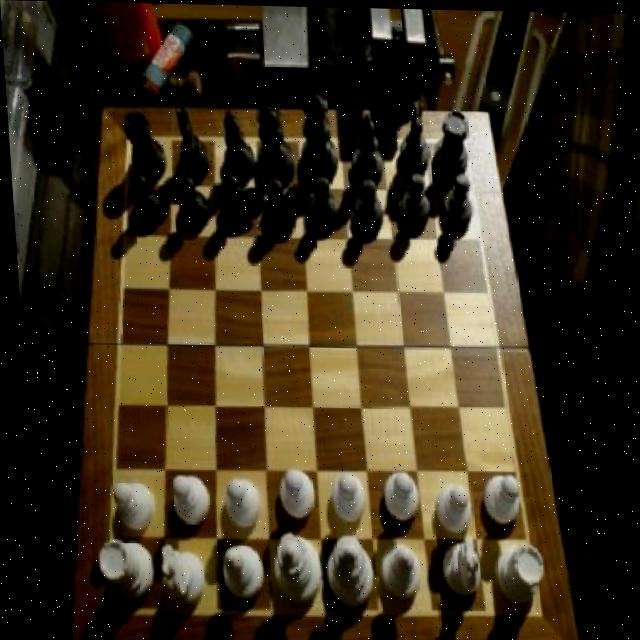bishop: (213, 107, 256, 185), (345, 109, 385, 187)
black-bishop: (291, 81, 341, 184)
black-king: (171, 103, 211, 179), (394, 96, 431, 176)
black-knight: (126, 171, 167, 232), (214, 171, 252, 232), (257, 174, 296, 233), (301, 173, 339, 233), (172, 171, 209, 230), (436, 171, 473, 230), (347, 174, 383, 233), (395, 170, 429, 230)
black-pawn: (246, 97, 295, 184)
black-queen: (121, 108, 168, 179), (428, 106, 473, 180)
black-rook: (213, 541, 260, 605), (373, 542, 417, 605)
white-bishop: (317, 528, 373, 607)
white-king: (151, 541, 202, 610), (434, 535, 478, 599)
white-knight: (106, 475, 152, 532), (163, 472, 207, 529), (321, 468, 364, 525), (428, 481, 470, 539), (375, 466, 416, 525), (269, 463, 311, 520), (215, 474, 256, 531), (477, 471, 518, 528)
white-pawn: (263, 529, 318, 599)
white-queen: (88, 532, 149, 604), (485, 540, 539, 608)
